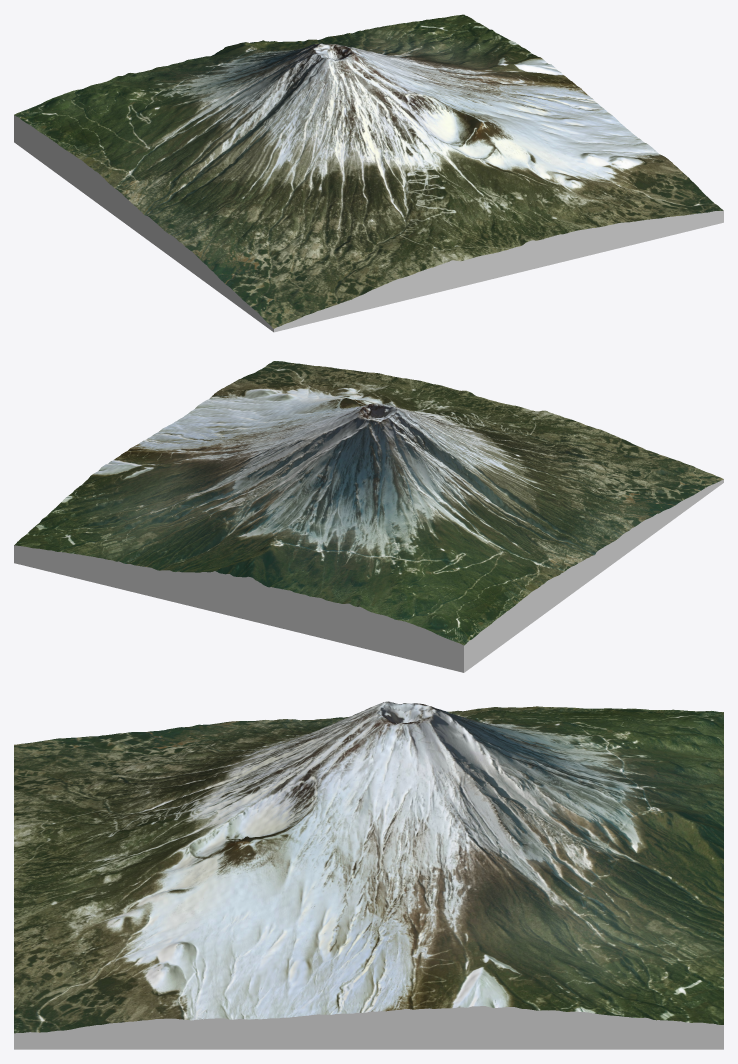
The model's file is Mount_Fuji.fbx.
The picture shows the model from 3 angles, top to bottom: view 1: azimuth 30°, elevation 25°; view 2: azimuth 150°, elevation 25°; view 3: azimuth 270°, elevation 25°; orthographic projection. The views are drawn at different scales.
Visible parts, largest first — view 1: Terrain, Cube; view 2: Terrain, Cube; view 3: Terrain, Cube.
Part boxes in pixels (box(x1,y1,x2,y2)): Terrain: box(14, 14, 723, 328); Cube: box(14, 115, 723, 332); Terrain: box(14, 361, 723, 645); Cube: box(14, 479, 723, 672); Terrain: box(14, 701, 723, 1033); Cube: box(14, 1006, 723, 1049).
Bounding box in the file's own units: 1000000 × 271219 × 1000000.
2 materials, 1 textured.
